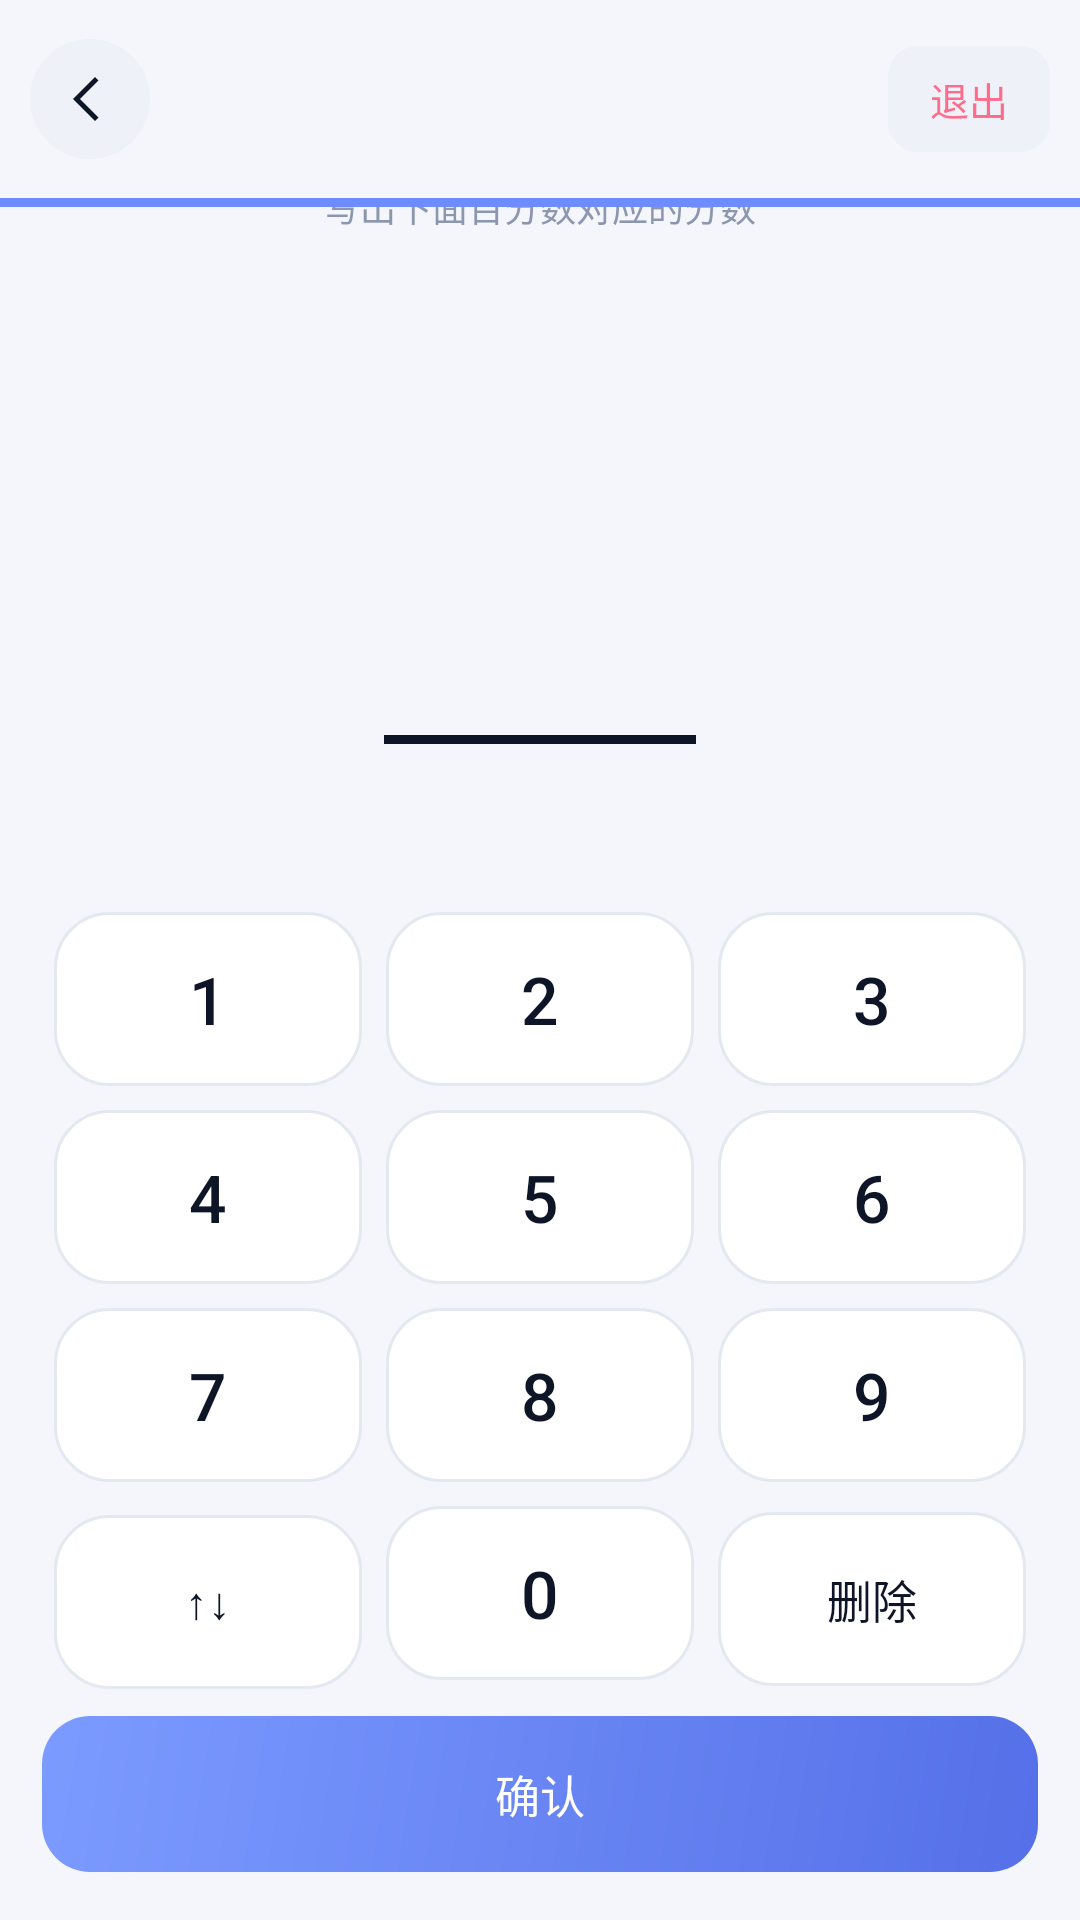

Icons on this 1080 x 1920 Android screen, each with its box as (x1, y1, x2, y2):
返回: (73, 77, 99, 121)
